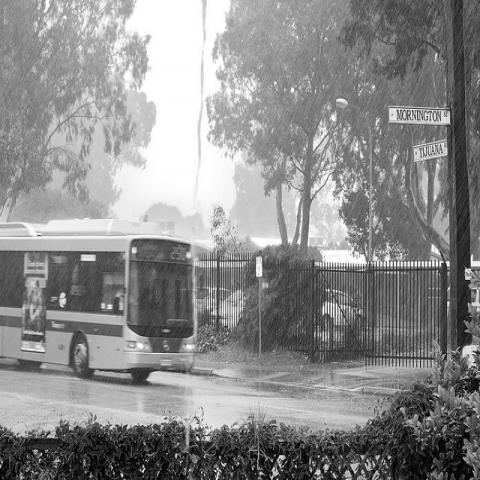bus: (0, 219, 194, 384)
car: (319, 286, 369, 330), (210, 289, 248, 334), (196, 286, 235, 324), (468, 286, 479, 317)
